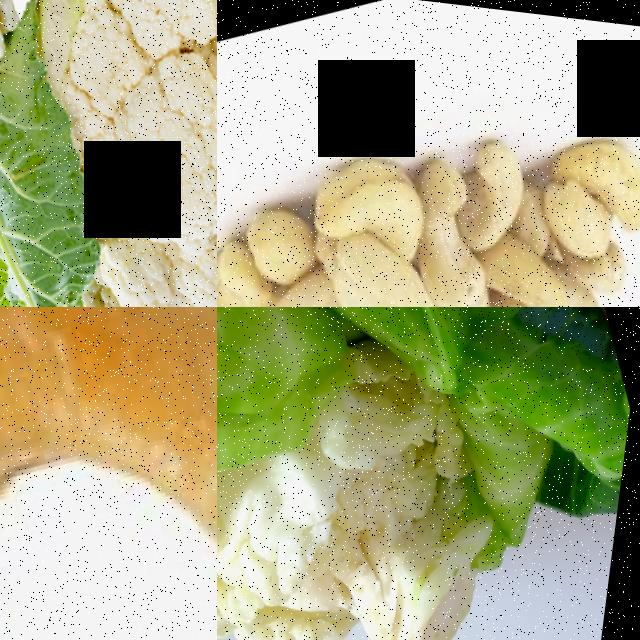cabbage: (217, 307, 640, 640)
cashew: (0, 307, 217, 640), (301, 105, 438, 250), (398, 143, 506, 307), (452, 110, 555, 236), (532, 150, 635, 265), (345, 219, 455, 307), (482, 224, 572, 307), (581, 115, 640, 224), (217, 228, 292, 307), (250, 261, 370, 307)
cauliflower: (0, 0, 217, 307)
